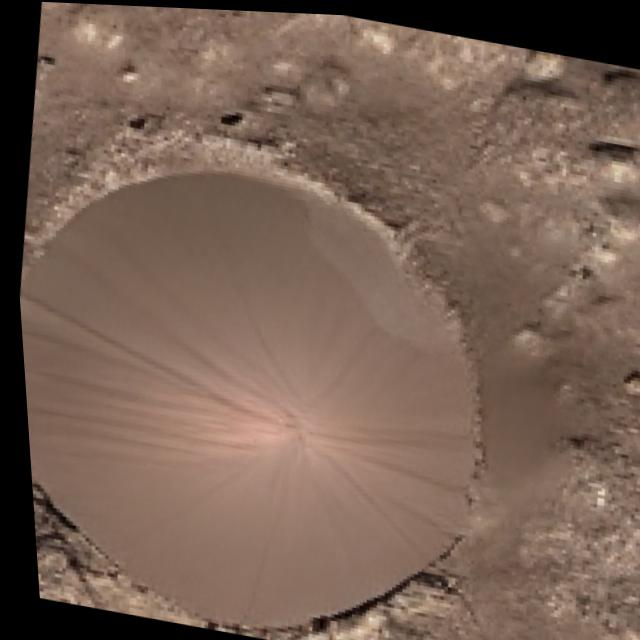Crater: (6, 122, 519, 640)
